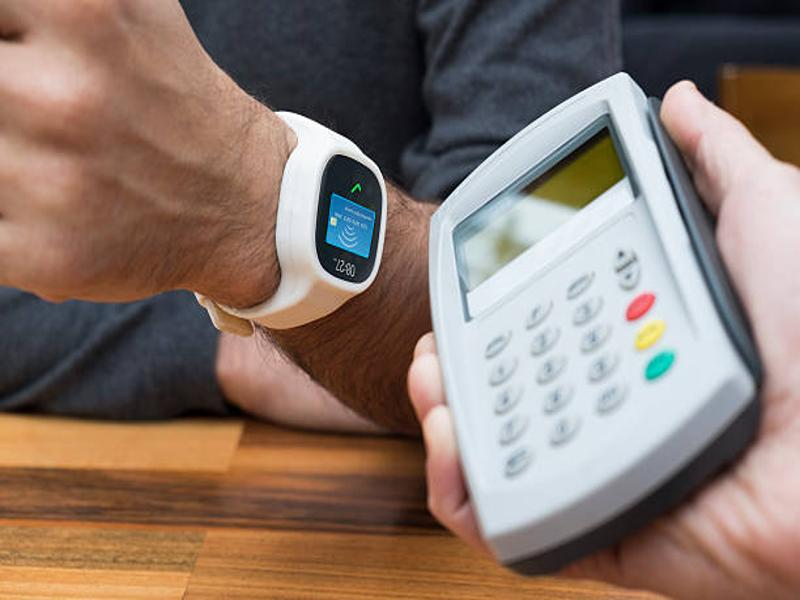watch: (189, 108, 390, 335)
